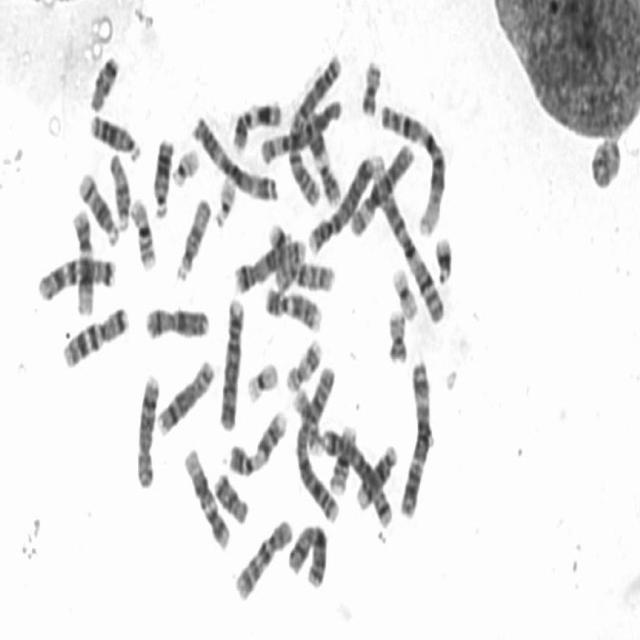A1: (369, 150, 447, 325), (375, 93, 448, 238)
A2: (282, 44, 344, 208), (290, 360, 342, 526)
A3: (187, 106, 281, 203), (395, 350, 435, 519)
B4: (304, 146, 378, 256), (214, 289, 246, 432)
B5: (317, 418, 394, 529), (229, 228, 307, 296)
C10: (230, 509, 295, 603), (270, 248, 337, 294)
C11: (302, 106, 342, 208), (228, 92, 284, 154)
C12: (179, 438, 233, 552), (67, 200, 97, 318)
C6: (344, 134, 416, 238), (255, 90, 344, 167)
C7: (57, 296, 130, 370), (33, 247, 118, 302)
C8: (153, 349, 216, 437), (131, 365, 162, 490)
C9: (224, 400, 288, 478), (260, 277, 324, 334)
D13: (85, 104, 142, 162), (148, 127, 176, 219)
D14: (73, 162, 120, 247), (351, 434, 399, 512)
D15: (171, 189, 213, 283), (104, 144, 132, 233)
E16: (325, 416, 359, 496), (126, 189, 158, 272)
E17: (281, 329, 324, 394), (289, 380, 324, 458)
E18: (209, 464, 250, 525), (84, 45, 121, 112)
F19: (387, 257, 420, 321), (241, 353, 280, 404)
F20: (356, 49, 384, 117), (383, 301, 410, 365)
G21: (430, 227, 454, 284), (264, 215, 294, 256)
G22: (210, 168, 238, 228), (167, 140, 200, 188)
X: (282, 514, 330, 591), (141, 296, 211, 341)
